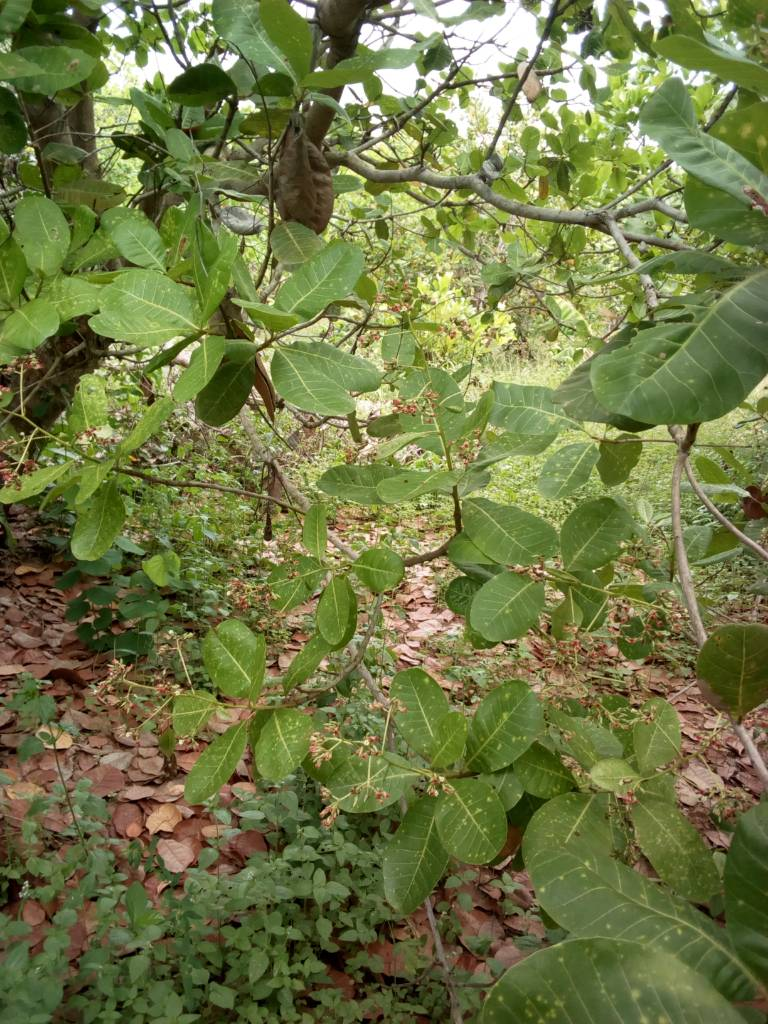Carence minérale: (519, 817, 768, 996), (582, 272, 768, 438), (85, 255, 223, 353), (261, 222, 382, 330), (462, 674, 549, 801), (388, 657, 456, 778), (51, 360, 134, 448), (182, 708, 244, 814), (252, 702, 329, 782)
